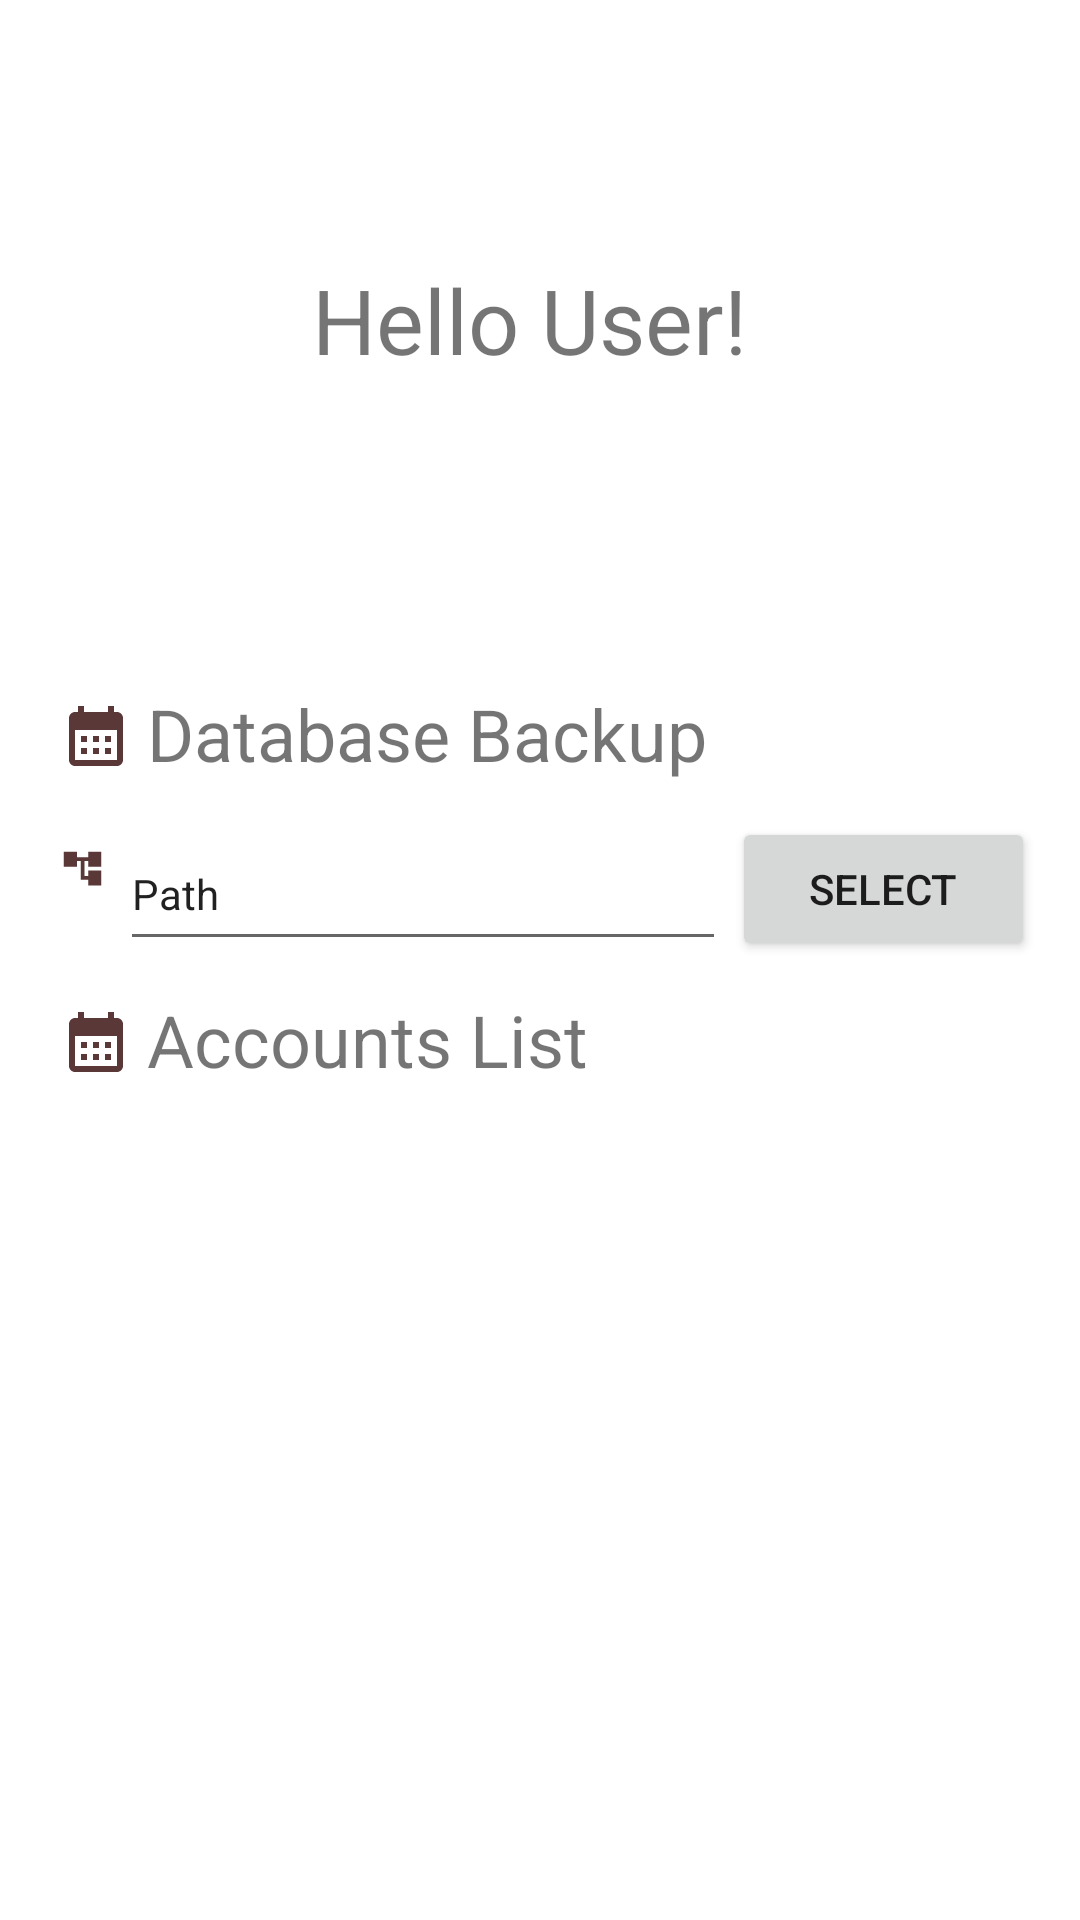

Where to tap for icons on this 1080x1920 app screen, as (x,y):
account tree: (82,868)
calender: (96,736), (96,1042)
